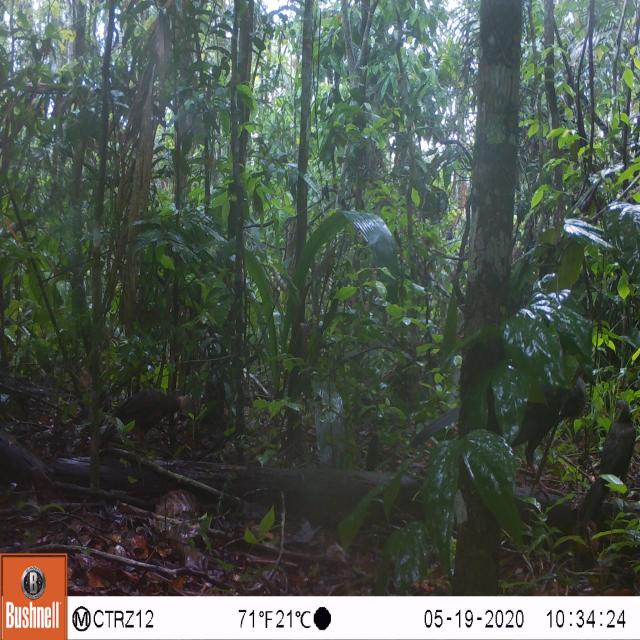Spixs Guan: (96, 366, 199, 456)
